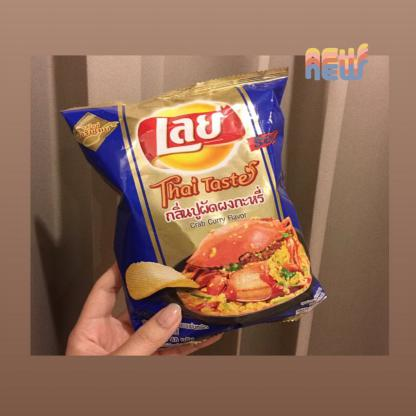potatochip: (52, 62, 330, 351)
